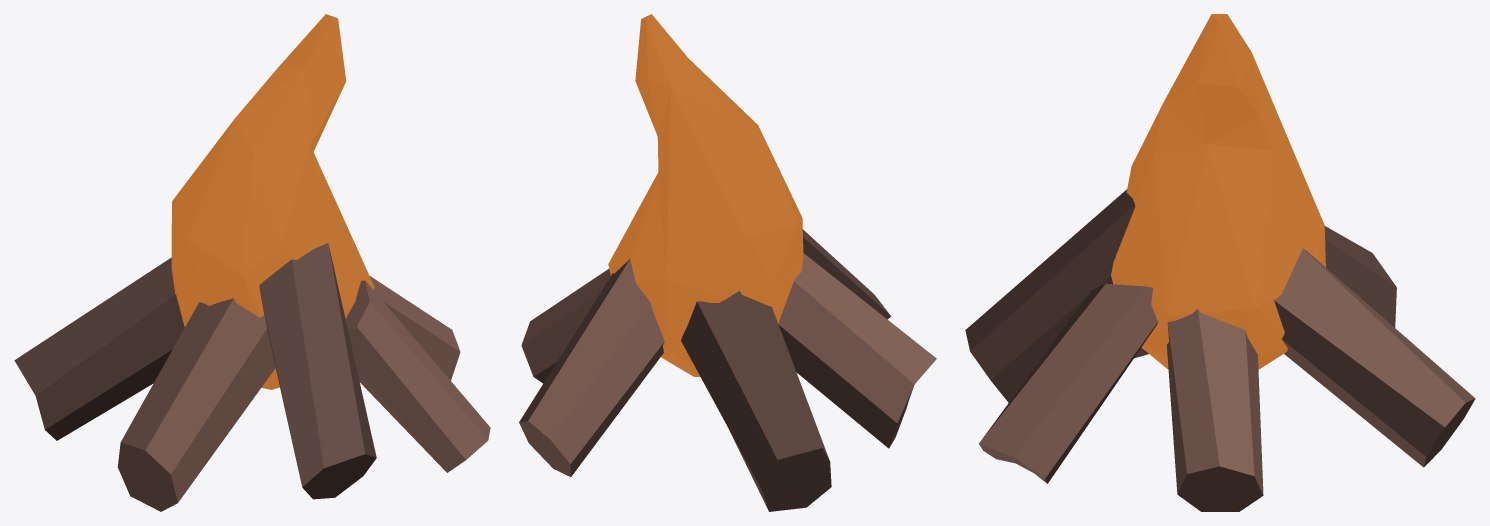
File: woodfire.glb
The picture shows the model from 3 angles, left to right: view 1: azimuth 30°, elevation 25°; view 2: azimuth 150°, elevation 25°; view 3: azimuth 270°, elevation 25°; orthographic projection. The views are drawn at different scales.
Visible parts, largest first — view 1: WoodFire; view 2: WoodFire; view 3: WoodFire.
Part boxes in pixels (<box>): WoodFire: <box>14,14,490,511</box>; WoodFire: <box>519,14,936,511</box>; WoodFire: <box>965,14,1475,511</box>.
Size of the model in its own units: 0.7756 by 0.8281 by 0.8266.
